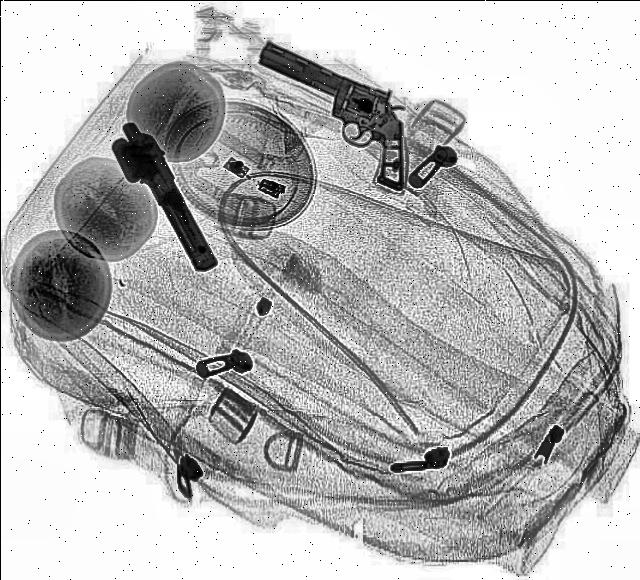Gun: (218, 36, 446, 192), (98, 117, 225, 281)
